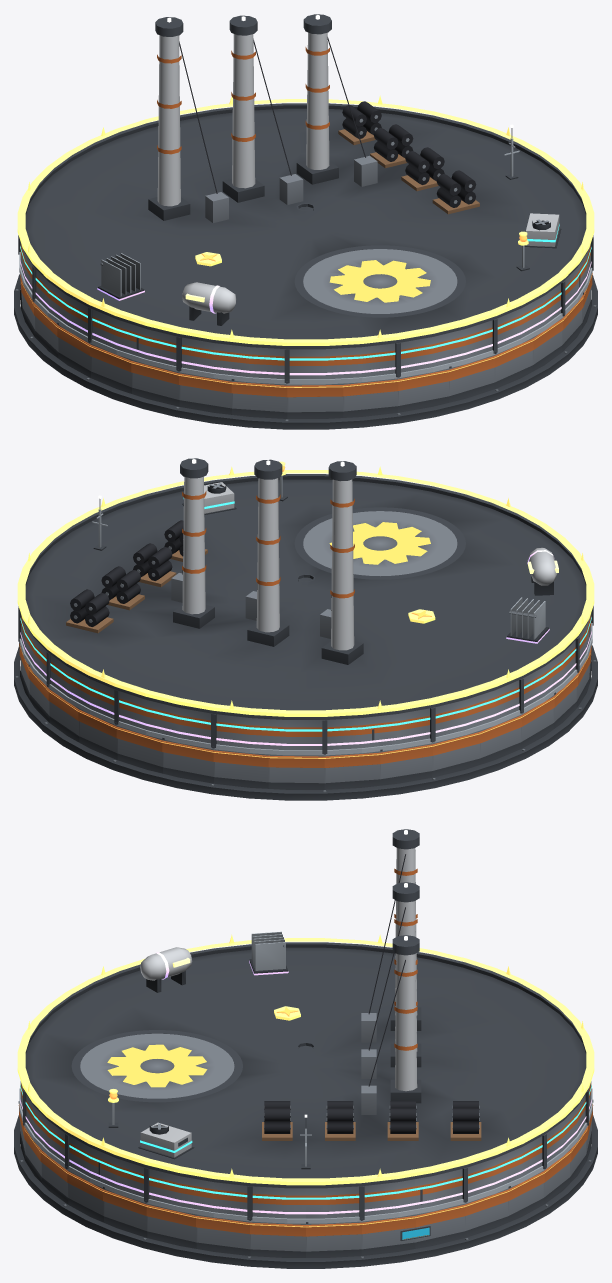
Rendered from carbon_works_l.glb.
3 renders of one model, top to bottom at view 1: azimuth 30°, elevation 25°; view 2: azimuth 150°, elevation 25°; view 3: azimuth 270°, elevation 25°, orthographic.
Parts seen in each view (by area): view 1: Roof, Base, L4, Wall_21, Wall_20, Wall_22, Wall_19, Wall_23, Wall_18, Wall_24, Upper_21, Upper_22 (+20 smaller); view 2: Roof, Base, L4, Wall_10, Wall_11, Wall_09, Wall_12, Wall_08, Wall_13, Wall_07, Upper_10, Upper_09 (+25 smaller); view 3: Roof, Base, L4, Wall_00, Wall_31, Wall_30, Wall_01, Wall_29, Wall_02, Upper_00, Upper_31, Wall_28 (+19 smaller).
Part boxes in pixels (<box>): Roof: <box>24,14,587,349</box>; Base: <box>14,274,597,429</box>; L4: <box>97,253,236,325</box>; Wall_21: <box>287,383,343,418</box>; Wall_20: <box>231,379,287,418</box>; Wall_22: <box>343,378,398,417</box>; Wall_19: <box>179,372,231,414</box>; Wall_23: <box>398,368,449,412</box>; Wall_18: <box>131,360,179,406</box>; Wall_24: <box>449,355,495,402</box>; Upper_21: <box>287,348,343,383</box>; Upper_22: <box>343,343,398,378</box>; Roof: <box>24,458,587,719</box>; Base: <box>14,645,597,800</box>; L4: <box>506,547,558,643</box>; Wall_10: <box>268,754,324,789</box>; Wall_11: <box>324,751,380,789</box>; Wall_09: <box>213,749,268,788</box>; Wall_12: <box>380,743,432,785</box>; Wall_08: <box>162,737,213,783</box>; Wall_13: <box>432,730,480,777</box>; Wall_07: <box>116,726,162,773</box>; Upper_10: <box>268,719,324,753</box>; Upper_09: <box>213,714,268,749</box>; Roof: <box>24,829,587,1188</box>; Base: <box>14,1115,597,1268</box>; L4: <box>140,931,288,992</box>; Wall_00: <box>306,1221,361,1257</box>; Wall_31: <box>250,1221,305,1257</box>; Wall_30: <box>196,1214,250,1255</box>; Wall_01: <box>361,1214,415,1255</box>; Wall_29: <box>146,1203,196,1248</box>; Wall_02: <box>415,1203,465,1248</box>; Upper_00: <box>306,1186,362,1220</box>; Upper_31: <box>249,1186,305,1220</box>; Wall_28: <box>103,1186,147,1237</box>.
Size of the model in its own units: 18.96 by 9.79 by 18.96.
